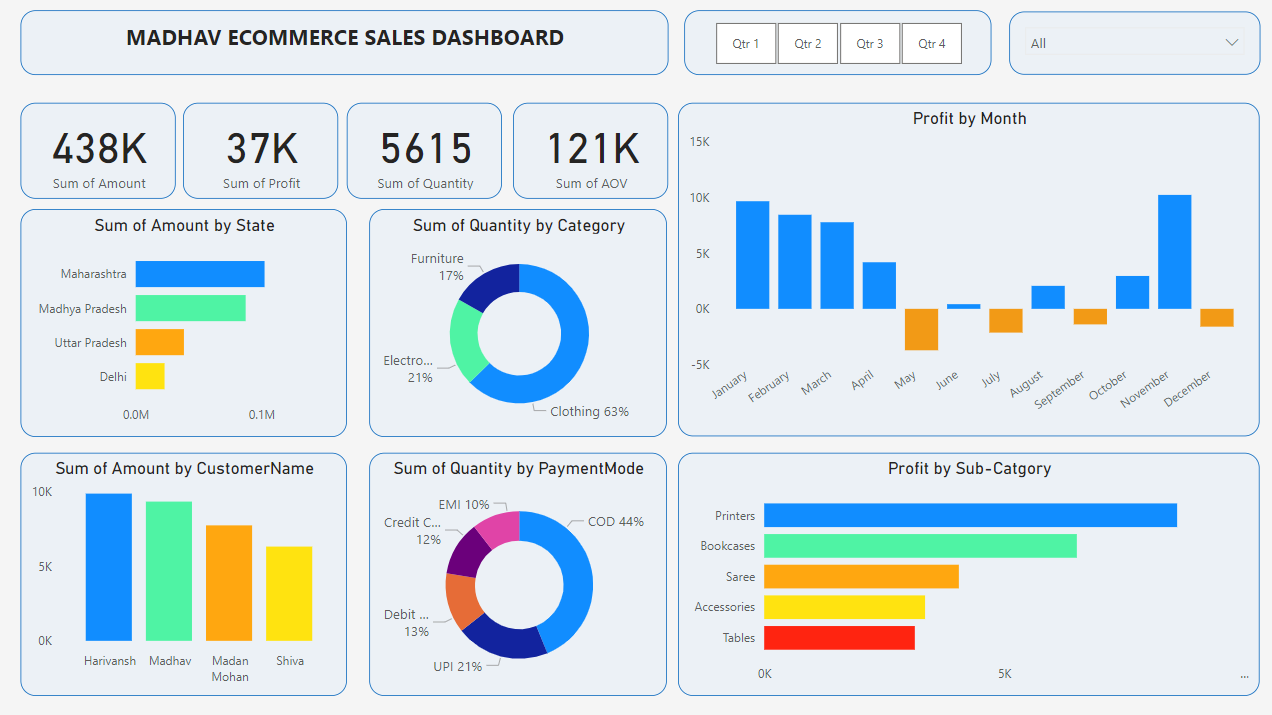

What the dashboard file says about the page in this screenshot:
{"tool":"powerbi","page":{"name":"Page 1","canvas":[1280,720],"ordinal":0},"visuals":[{"type":"textbox","box":[22,11,647.7,64.5],"z":0},{"type":"columnChart","title":"Profit by Month","fields":{"Category":["Orders (1).Order Date.Variation.Date Hierarchy.Month"],"Y":["Details (1).Profit"]},"box":[680.6,104.3,581.8,333.4],"z":1000},{"type":"barChart","title":"Profit by Sub-Catgory","fields":{"Category":["Details (1).Sub-Category"],"Y":["Details (1).Profit"]},"box":[680.6,454.2,581.8,242.9],"z":2000},{"type":"donutChart","fields":{"Category":["Details (1).Category"],"Y":["Details (1).Quantity"]},"box":[371.9,209.9,297.8,227.8],"z":3000},{"type":"donutChart","fields":{"Y":["Details (1).Quantity"],"Category":["Details (1).PaymentMode"]},"box":[371.9,454.2,297.8,242.9],"z":4000},{"type":"card","fields":{"Values":["Details (1).Amount"]},"box":[22,104.3,155.1,96.1],"z":5000},{"type":"card","fields":{"Values":["Details (1).Profit"]},"box":[185.2,104.3,155.1,96.1],"z":6000},{"type":"card","fields":{"Values":["Details (1).Quantity"]},"box":[348.5,104.3,155.1,96.1],"z":7000},{"type":"card","fields":{"Values":["Details (1).AOV"]},"box":[514.6,104.3,155.1,96.1],"z":8000},{"type":"barChart","fields":{"Category":["Orders (1).State"],"Y":["Details (1).Amount"]},"box":[22,209.9,326.6,227.8],"z":9000},{"type":"columnChart","fields":{"Category":["Orders (1).CustomerName"],"Y":["Details (1).Amount"]},"box":[22,454.2,326.6,242.9],"z":10000},{"type":"slicer","fields":{"Values":["Orders (1).Order Date.Variation.Date Hierarchy.Quarter"]},"box":[686.1,11,307.4,64.5],"z":11000},{"type":"slicer","fields":{"Values":["Orders (1).State"]},"box":[1011.3,12.3,251.1,63.1],"z":12000}]}

Visuals, with their boxes in screenshot pixels (x1, y1, x2, y2), scaled from the page's 1280x720 canvas onto the 1272x715 screenshot:
textbox: 22,11,666,75
"Profit by Month" columnChart: 676,104,1255,435
"Profit by Sub-Catgory" barChart: 676,451,1255,692
donutChart - Details (1).Category x Details (1).Quantity: 370,208,666,435
donutChart - Details (1).Quantity x Details (1).PaymentMode: 370,451,666,692
card - Details (1).Amount: 22,104,176,199
card - Details (1).Profit: 184,104,338,199
card - Details (1).Quantity: 346,104,500,199
card - Details (1).AOV: 511,104,666,199
barChart - Orders (1).State x Details (1).Amount: 22,208,346,435
columnChart - Orders (1).CustomerName x Details (1).Amount: 22,451,346,692
slicer - Orders (1).Order Date.Variation.Date Hierarchy.Quarter: 682,11,987,75
slicer - Orders (1).State: 1005,12,1255,75
